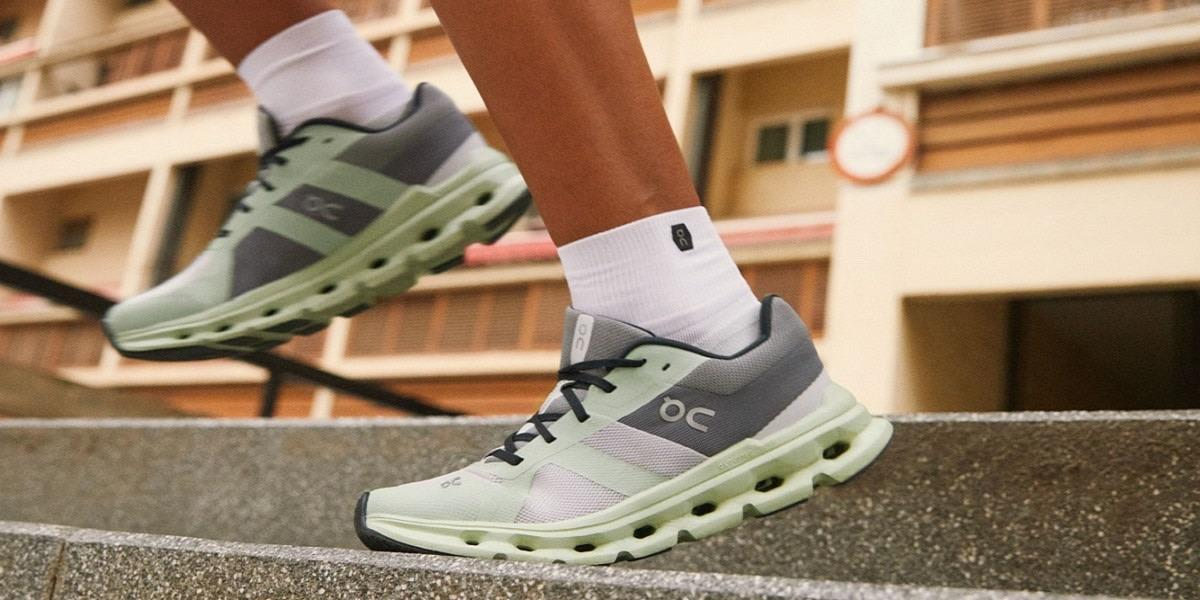OC_logo: (638, 389, 743, 441), (284, 177, 369, 236)
